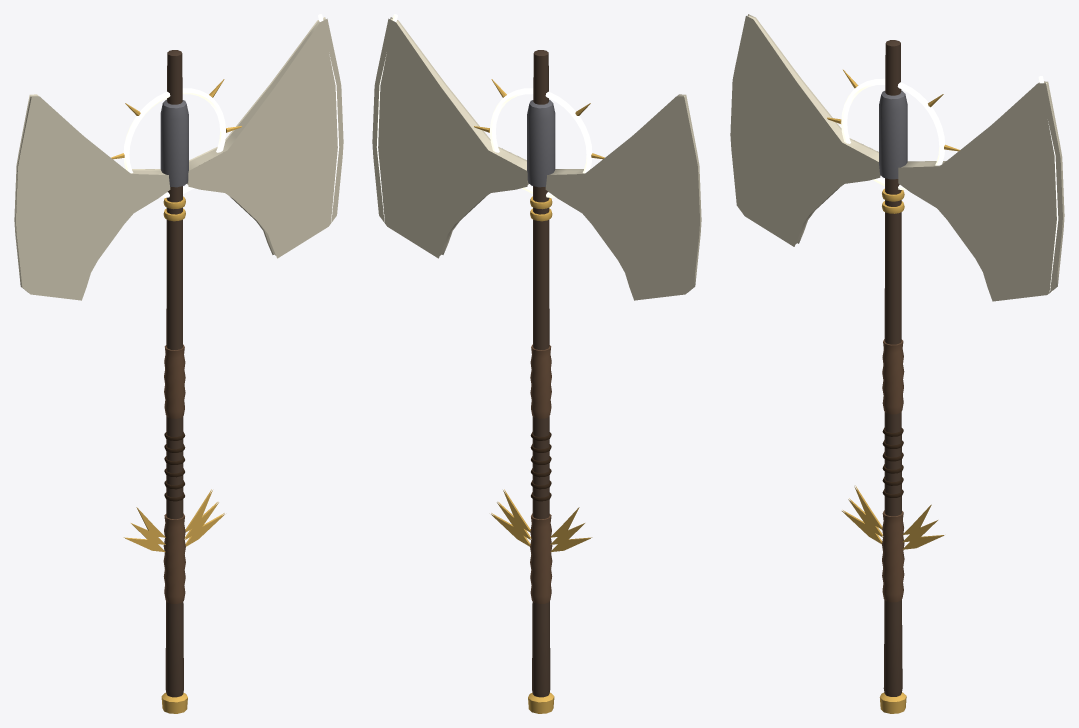
File: asc_archon_crusader_weapon.glb
3 views of the same model, side by side, from view 1: azimuth 30°, elevation 25°; view 2: azimuth 150°, elevation 25°; view 3: azimuth 330°, elevation 25° (orthographic).
Visible parts, largest first — view 1: asc_archon_crusader_weapon; view 2: asc_archon_crusader_weapon; view 3: asc_archon_crusader_weapon.
Boxes of the visible parts, left/top/right/bottom form: asc_archon_crusader_weapon: left=14, top=14, right=343, bottom=713; asc_archon_crusader_weapon: left=372, top=14, right=701, bottom=713; asc_archon_crusader_weapon: left=730, top=14, right=1064, bottom=713.
Size of the model in its own units: 0.8524 by 1.65 by 0.0609.
